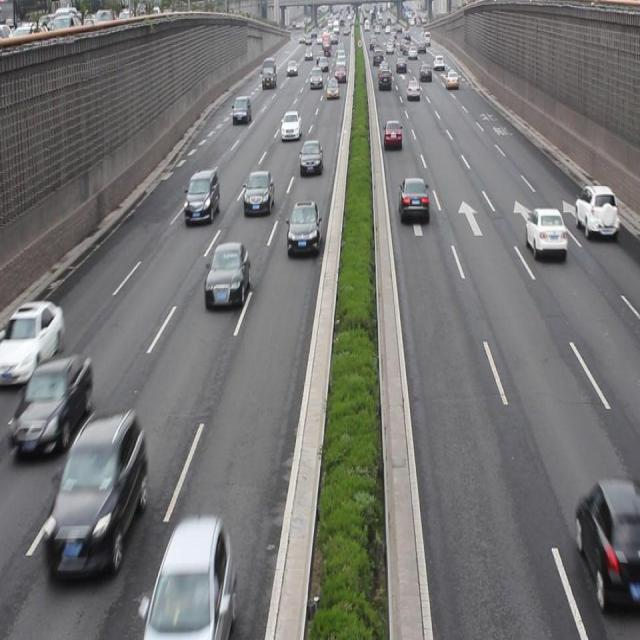car: (44, 408, 146, 580), (147, 515, 235, 640), (574, 479, 640, 605), (16, 353, 93, 458), (1, 300, 64, 384), (204, 242, 250, 308), (574, 183, 618, 239), (524, 204, 566, 258), (184, 167, 220, 225), (287, 200, 321, 256), (397, 174, 429, 223), (243, 170, 274, 216), (298, 138, 323, 176), (280, 109, 301, 141), (383, 118, 402, 150), (232, 94, 251, 125)
